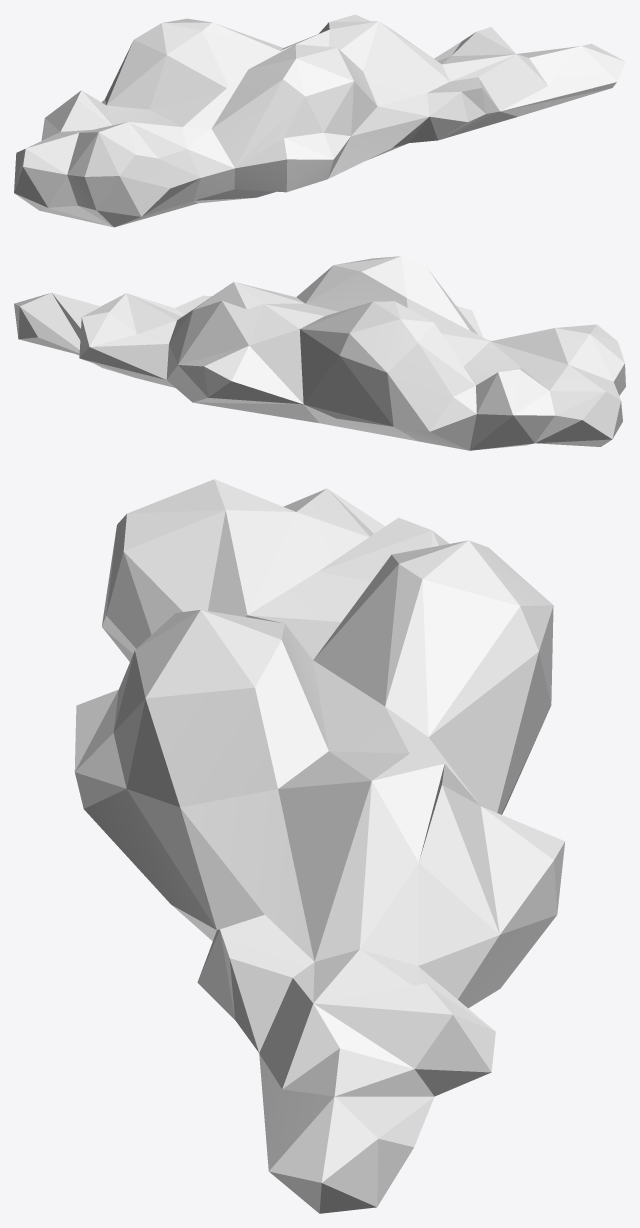
Rendered from cloud_2.glb.
3 renders of one model, top to bottom at view 1: azimuth 30°, elevation 25°; view 2: azimuth 150°, elevation 25°; view 3: azimuth 270°, elevation 25°, orthographic. The views are drawn at different scales.
Parts seen in each view (by area): view 1: SM_Generic_Cloud_02; view 2: SM_Generic_Cloud_02; view 3: SM_Generic_Cloud_02.
Boxes of the visible parts, left/top/right/bottom form: SM_Generic_Cloud_02: left=14, top=14, right=625, bottom=227; SM_Generic_Cloud_02: left=14, top=256, right=625, bottom=450; SM_Generic_Cloud_02: left=74, top=479, right=565, bottom=1213.
Bounding box in the file's own units: 7.29 × 1.71 × 2.57.
Materials: 1 (1 with a texture image).
